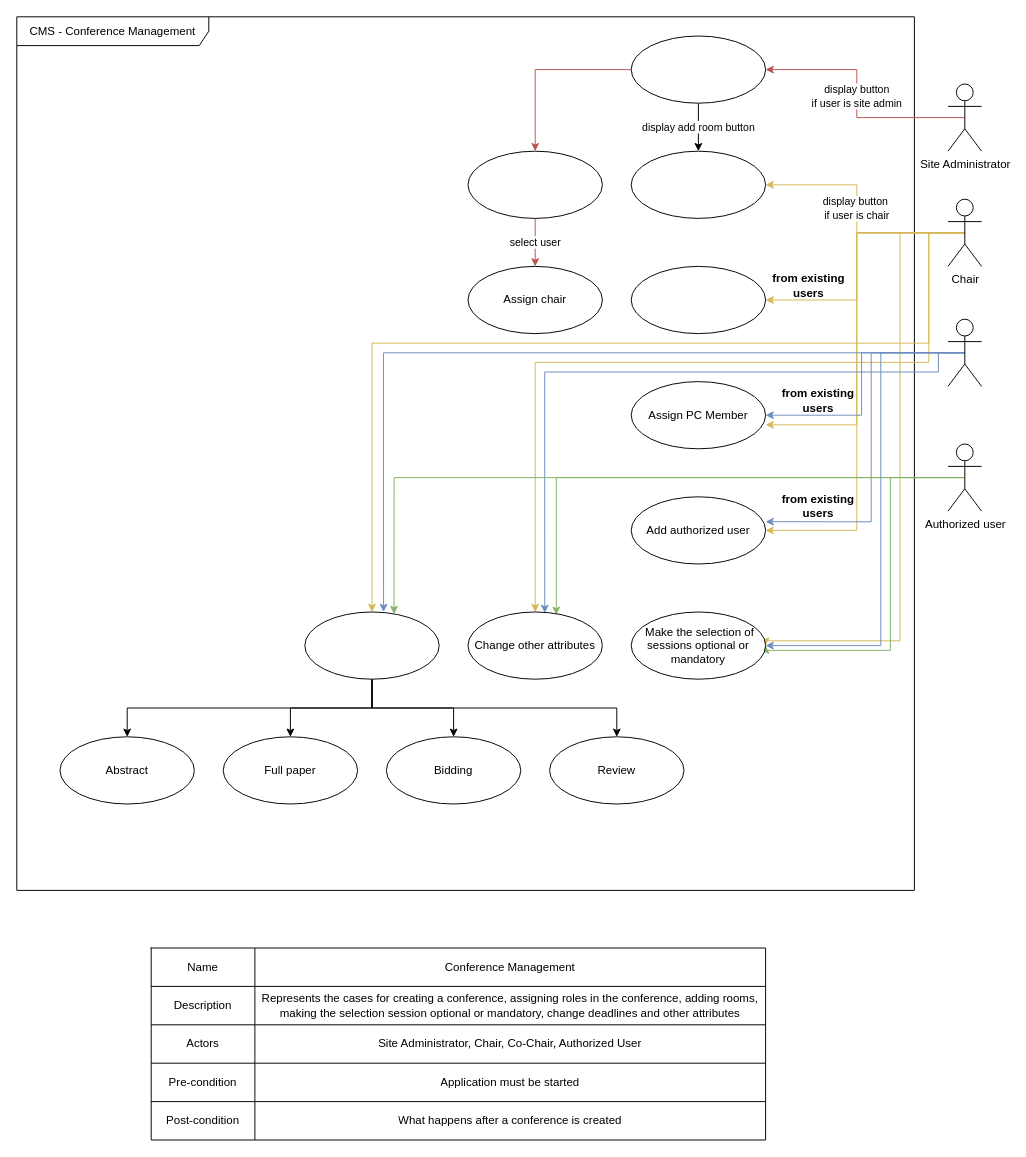
Image size: 1026x1157. Some labels were removed from this diagram. The shapes that lost their labels are listed below. From the top down, each one's centre as x and y in pixels, then its label:
the point at 698,69: Create conference
the point at 534,184: Display list of users
the point at 698,184: Add room
the point at 698,299: Assign co-chair
the point at 964,352: Co-chair
the point at 371,645: Change deadlines
